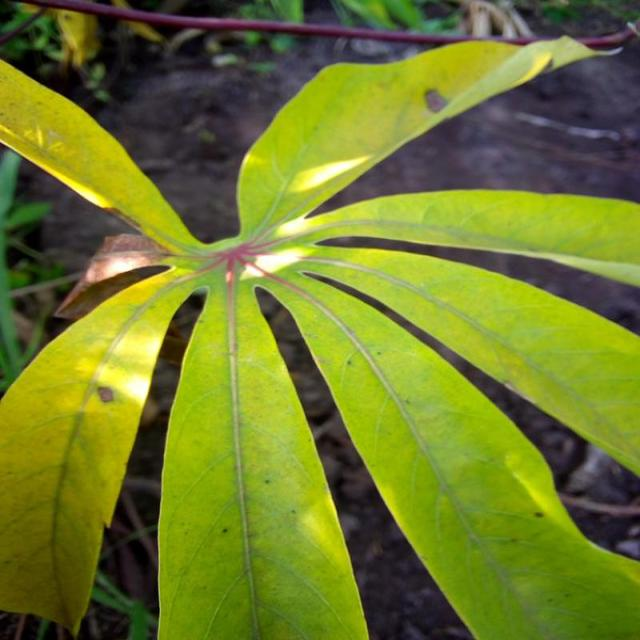cassava leaf: (0, 30, 639, 639), (154, 263, 372, 639)
